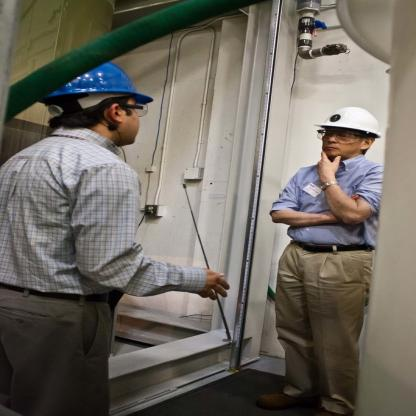Helmet: (41, 62, 154, 118), (314, 105, 380, 140)
